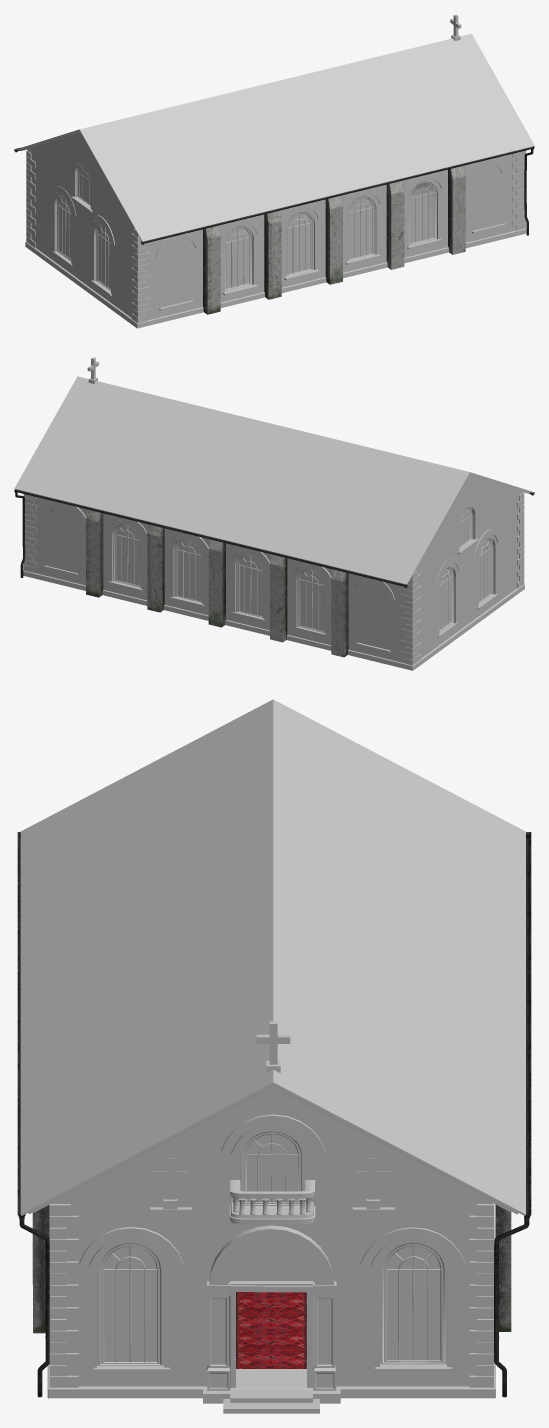
Rendered from ChurchO.fbx.
3 renders of one model, top to bottom at view 1: azimuth 30°, elevation 25°; view 2: azimuth 150°, elevation 25°; view 3: azimuth 270°, elevation 25°, orthographic. The views are drawn at different scales.
Visible parts, largest first — view 1: CHURCH; view 2: CHURCH; view 3: CHURCH.
Boxes of the visible parts, <box> form: CHURCH: <box>14,14,534,328</box>; CHURCH: <box>14,357,534,670</box>; CHURCH: <box>17,699,531,1413</box>.
Size of the model in its own units: 2641 by 1114 by 1438.
